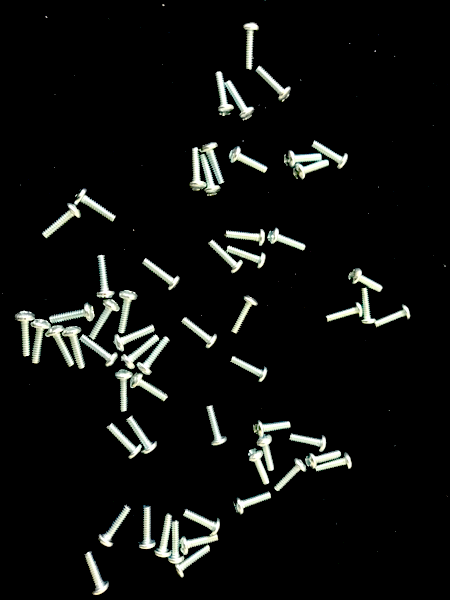shortscrew: (97, 504, 133, 548), (41, 203, 83, 240), (74, 188, 117, 223), (256, 65, 293, 103), (141, 257, 181, 292), (106, 423, 142, 461), (81, 334, 120, 369), (44, 326, 76, 368), (180, 316, 218, 351), (137, 336, 171, 375), (121, 336, 160, 370), (128, 372, 169, 403), (89, 299, 120, 340), (225, 80, 255, 122), (83, 551, 110, 597), (310, 139, 350, 170), (208, 240, 244, 274), (127, 416, 158, 455), (172, 547, 211, 578), (113, 325, 155, 352), (182, 508, 221, 537), (231, 295, 259, 335), (200, 142, 226, 184), (274, 459, 307, 492), (229, 356, 269, 383), (228, 147, 268, 173), (62, 327, 86, 370), (116, 290, 139, 334), (49, 302, 95, 324), (373, 304, 411, 330), (14, 311, 35, 357), (241, 22, 260, 71), (205, 405, 227, 447), (30, 320, 51, 364), (214, 71, 234, 117), (267, 228, 307, 251), (226, 247, 266, 270), (200, 154, 221, 196), (349, 267, 384, 292), (137, 505, 156, 551), (247, 449, 270, 487), (114, 370, 134, 413), (233, 493, 272, 515), (96, 254, 115, 299), (293, 160, 331, 182), (188, 148, 207, 192), (324, 303, 362, 325), (181, 533, 219, 555), (167, 519, 185, 565), (155, 514, 173, 558), (289, 434, 328, 453), (316, 453, 353, 473), (225, 229, 266, 247), (255, 434, 274, 472), (304, 451, 342, 470), (283, 151, 323, 169), (252, 420, 291, 438), (359, 287, 376, 325)
